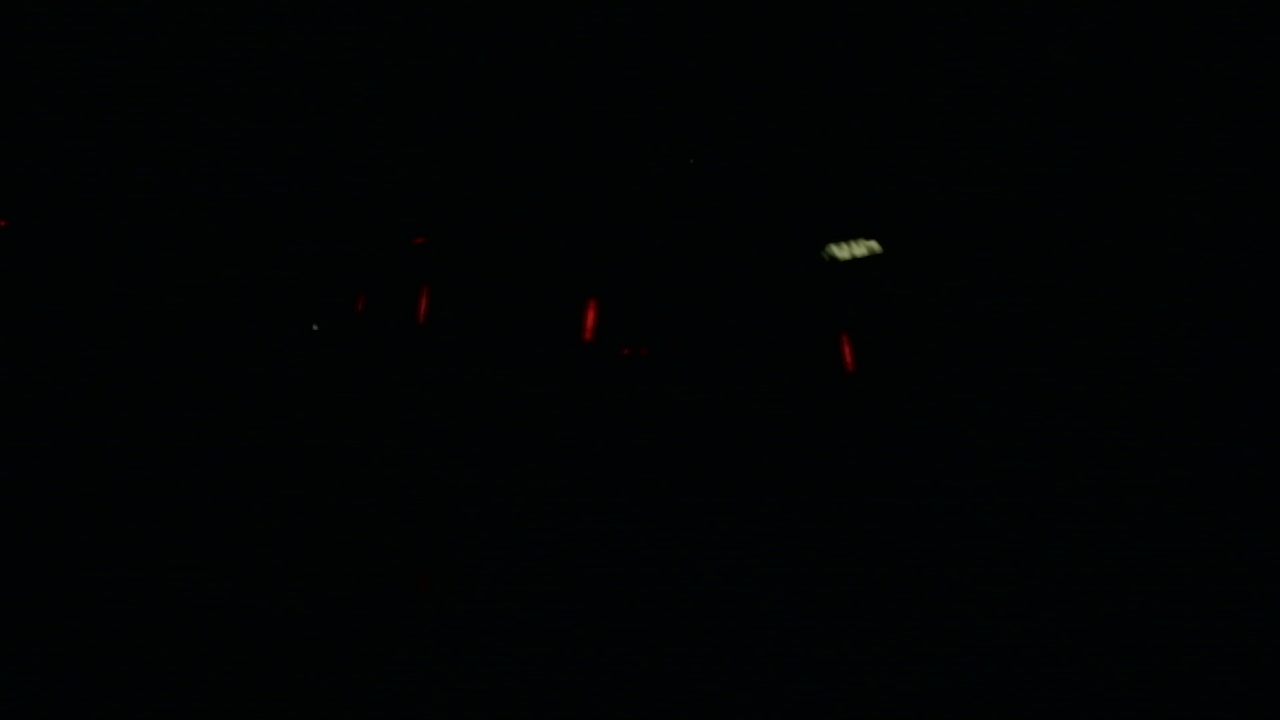lamp: (578, 290, 599, 344), (839, 331, 860, 374), (414, 286, 429, 333)
notpair2: (579, 293, 862, 376)
pair2: (416, 285, 600, 346)
